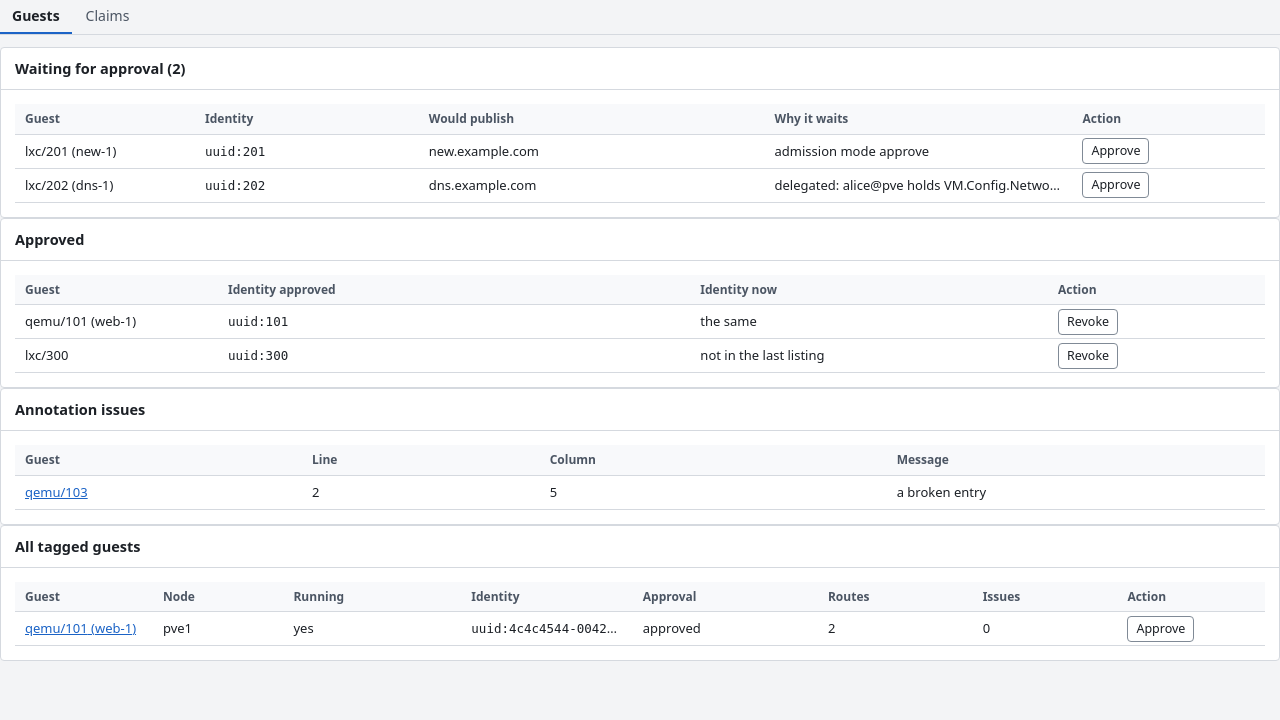
Test: waiting for approval › approve sends the identity, the MACs and the addresses the dialog shows
Expected: the table named "All tagged guests" is shown, [15, 582, 1265, 646]
Click the button "Approve" in the row of "lxc/202": (1116, 185) [1082, 172, 1149, 198]
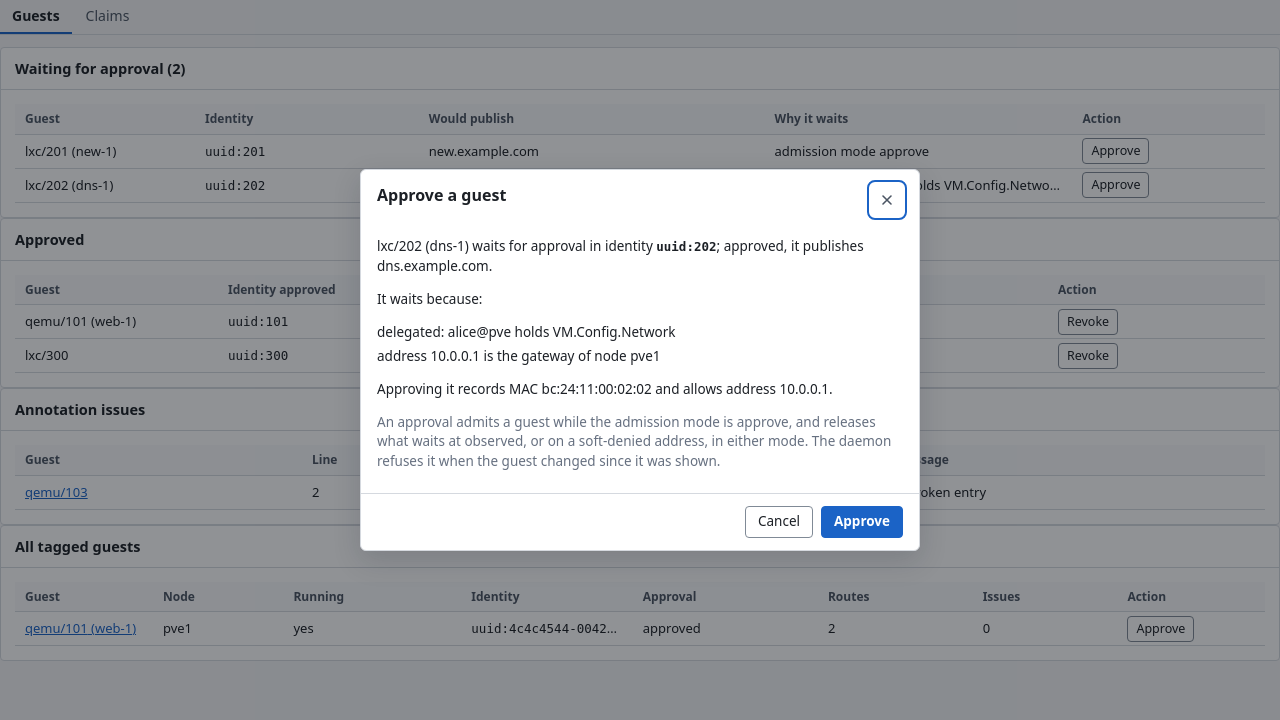
Expected: the dialog shows "waits for approval in identity uuid:202; approved, it publishes dns.example.com.", [360, 169, 920, 551]
Expected: the dialog shows "Approving it records MAC bc:24:11:00:02:02 and allows address 10.0.0.1.", [360, 169, 920, 551]
Click the button "Approve": (862, 522) [821, 506, 903, 538]
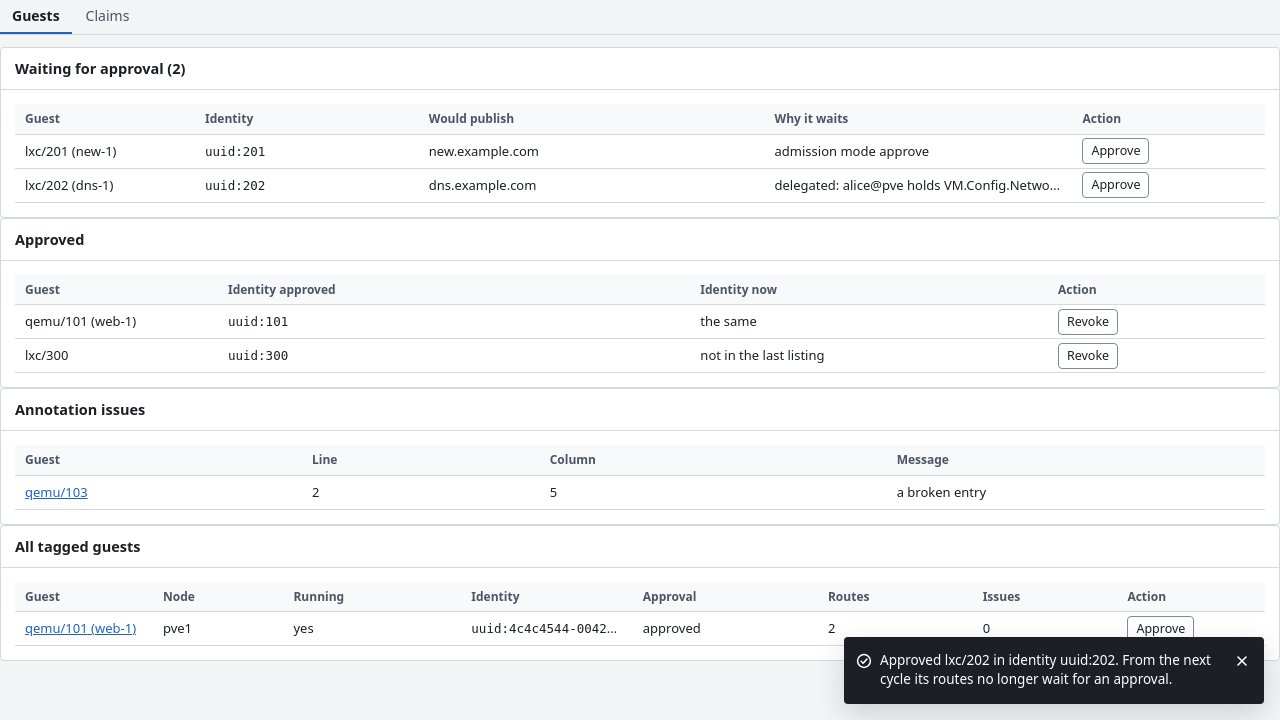
Expected: the text "Approved lxc/202 in identity uuid:202. From the next cycle" is shown, [880, 651, 1211, 688]
